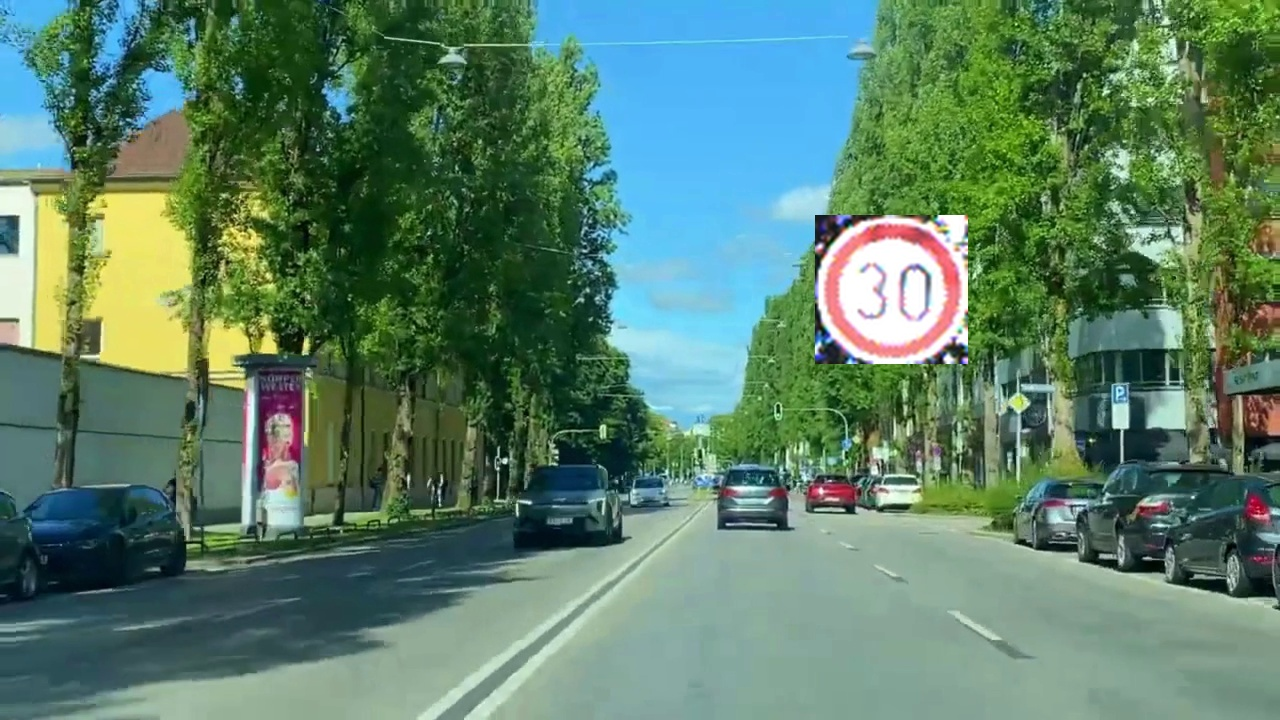Speed 30: (815, 215, 968, 364)
